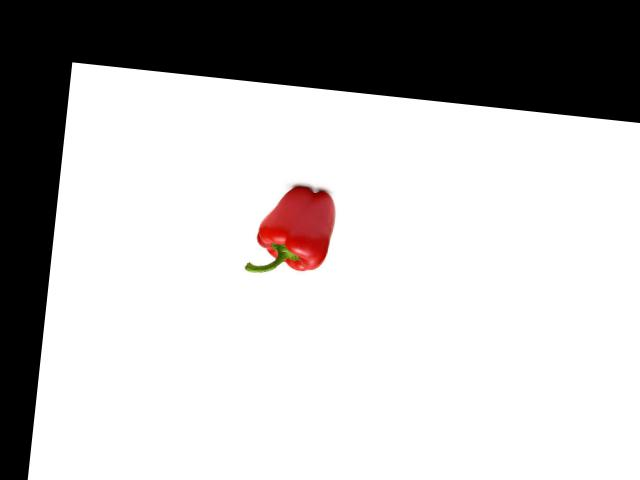bell_pepper: (241, 174, 342, 286)
